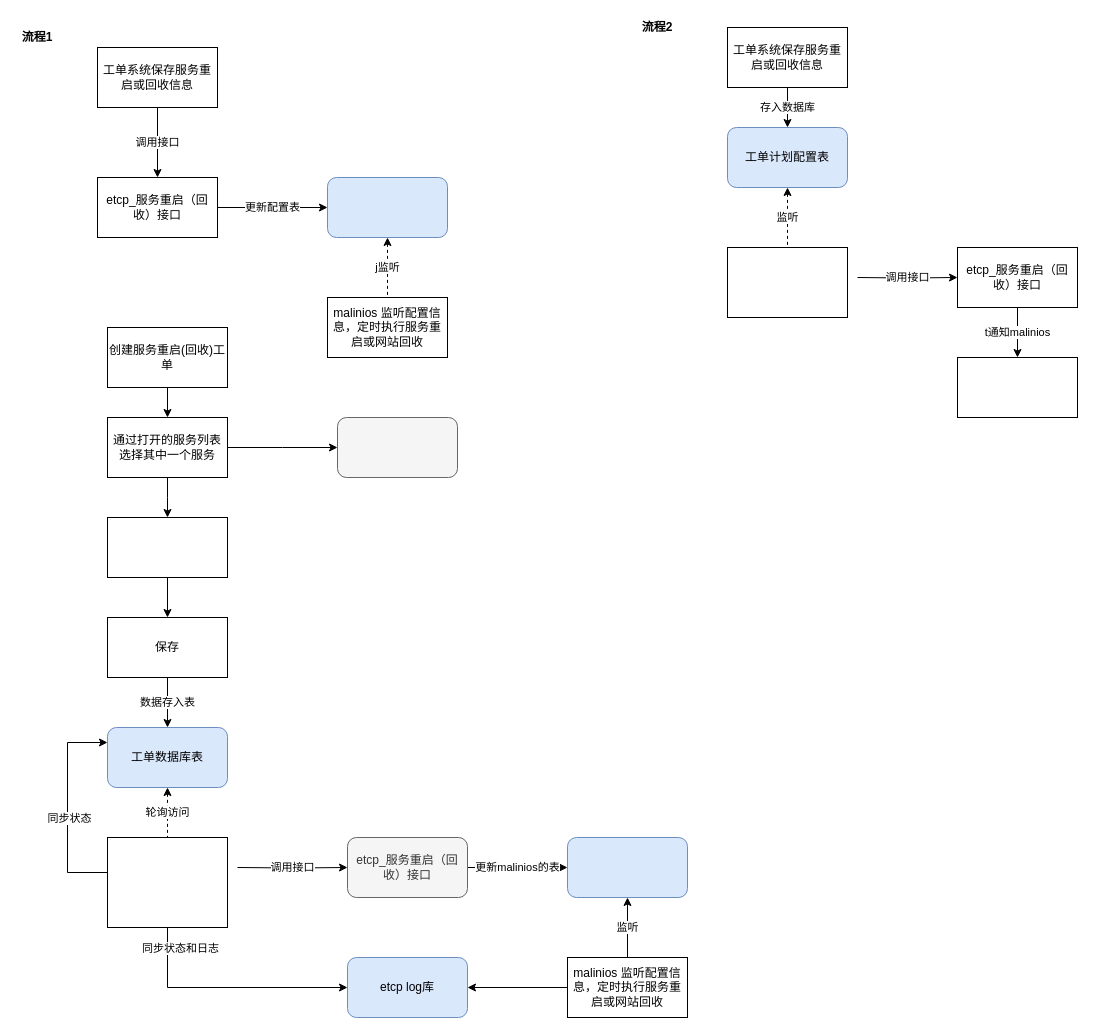
This 1095x1035 diagram has some shape labels left out. The centre of each missing label's shape, as x and y in pixels:
etcp2的库的appsets表: [627,867]
etcp服务列表接口: [397,447]
malinios 执行服务重启或网站回收: [1017,387]
malinios_计划配置表: [387,207]
工单服务轮询工单数据库表，检查工单状态，对已审核的工单作为任务通过etcp接口通知malinios执行服务重启或回收: [167,882]
工单系统监听服务根据计划配置表信息,定时通过etcp接口通知malinios执行服务重启或回收: [787,282]
选择分区和部署: [167,547]
